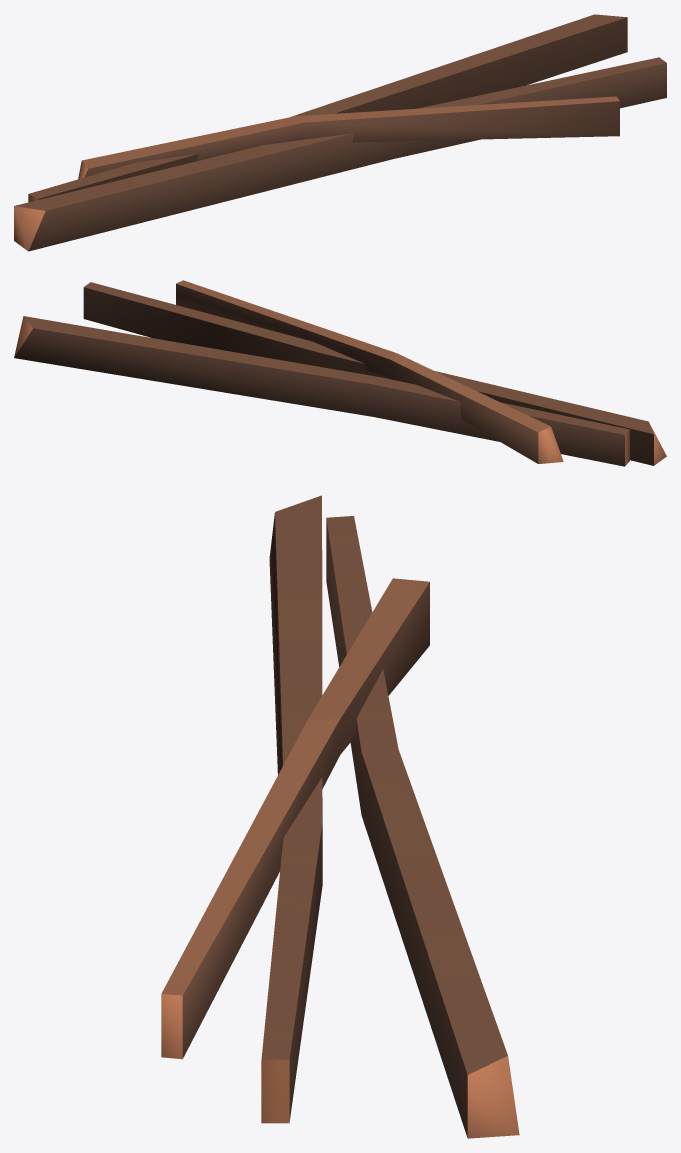
The model's file is Twigs_1A.fbx.
3 views of the same model, one above another, from view 1: azimuth 30°, elevation 25°; view 2: azimuth 150°, elevation 25°; view 3: azimuth 270°, elevation 25° (orthographic). The views are drawn at different scales.
Visible parts, largest first — view 1: Twigs_1A; view 2: Twigs_1A; view 3: Twigs_1A.
Boxes of the visible parts, x1,y1,x2,y2 form: Twigs_1A: (14, 14, 666, 251); Twigs_1A: (14, 280, 666, 466); Twigs_1A: (161, 495, 519, 1138).
Size of the model in its own units: 196 by 14.68 by 51.1.
